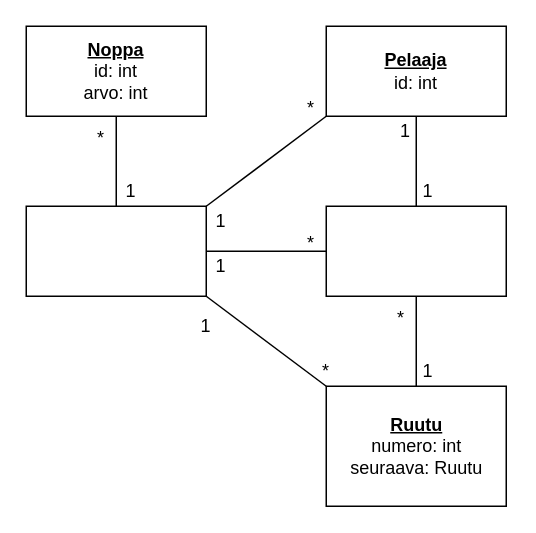
The diagram is 536 pixels wide and 533 high, and some of its shapes have lost their labels. The box of each missing label's shape, as (x1, y1, x2, y2) in pixels:
Peli vuoro: int: (25, 205, 206, 296)
Pelinappula id: String: (325, 205, 506, 296)
